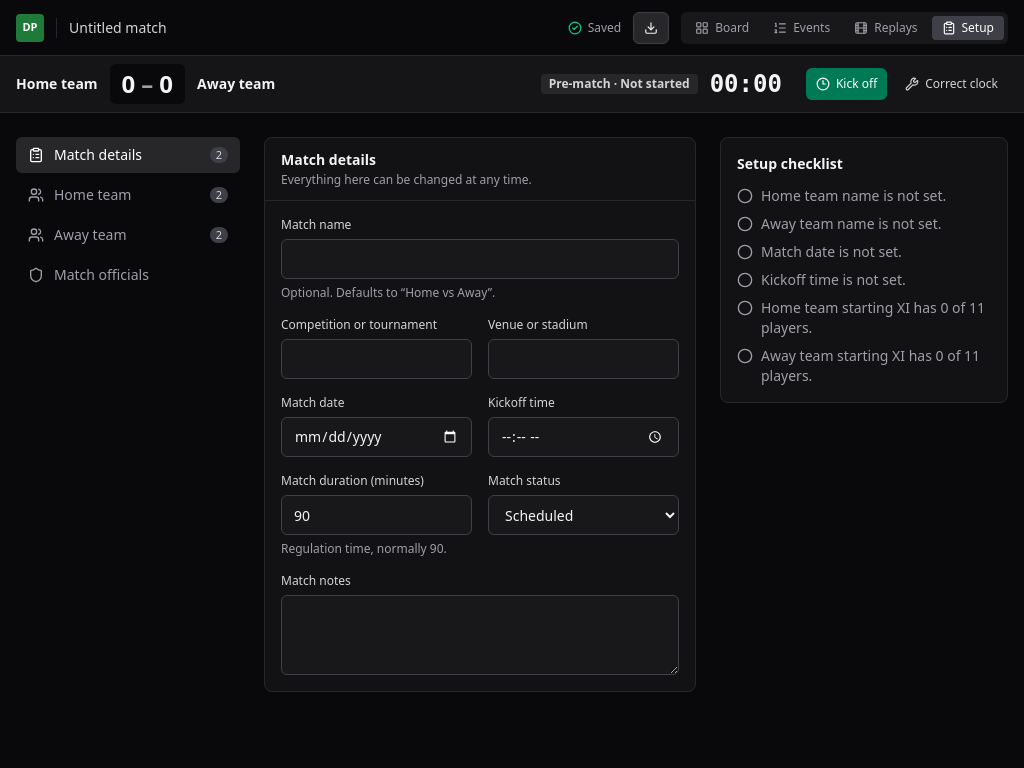
MatchWorkspace › blocks a duplicate shirt number within a team with a clear message
Click the button "Home team 2": (128, 195) [16,177,240,213]
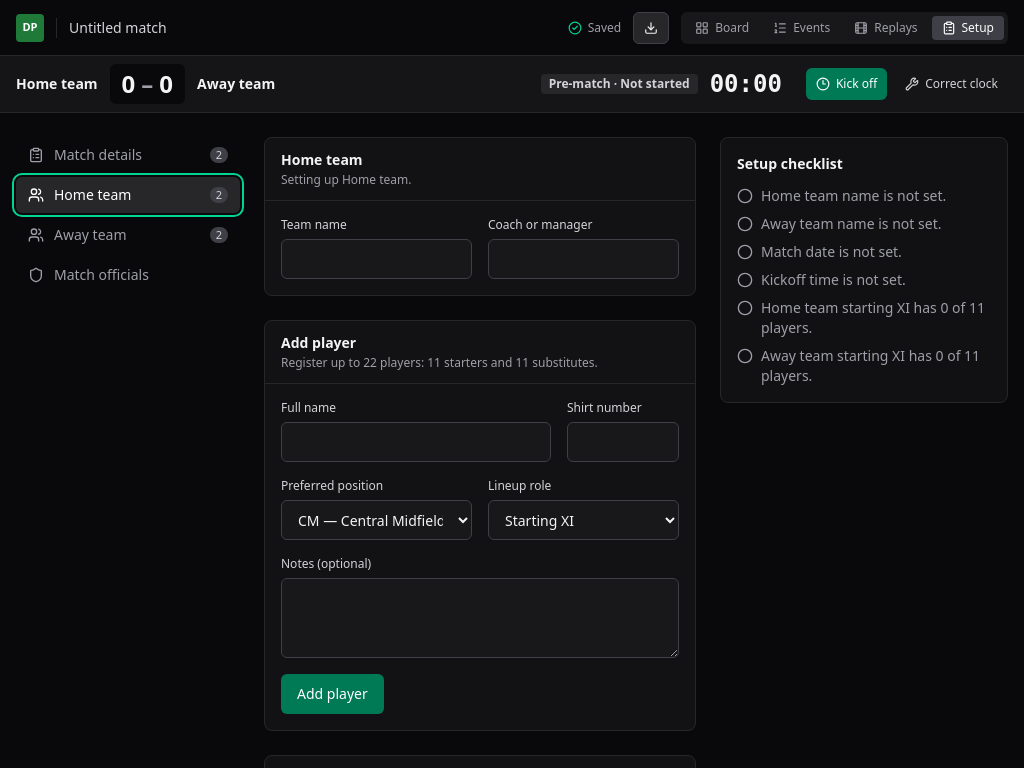
In the field labelled "Full name": (416, 442) [281,422,551,462], type "First"
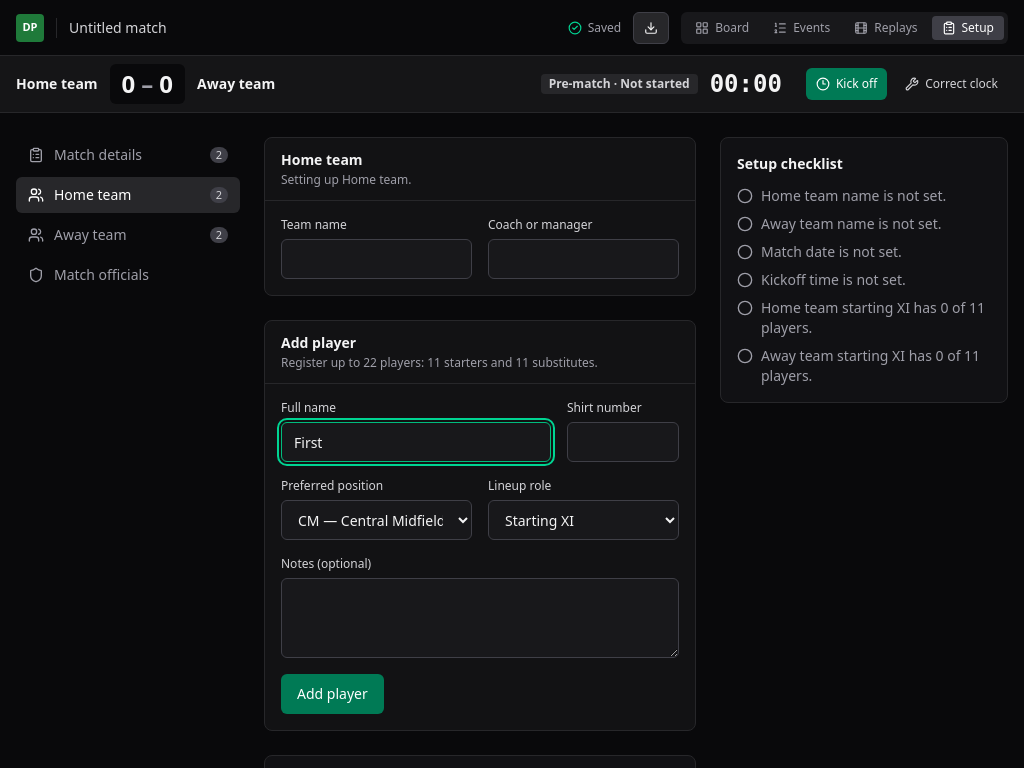
In the number field labelled "Shirt number": (623, 442) [567,422,679,462], type "9"
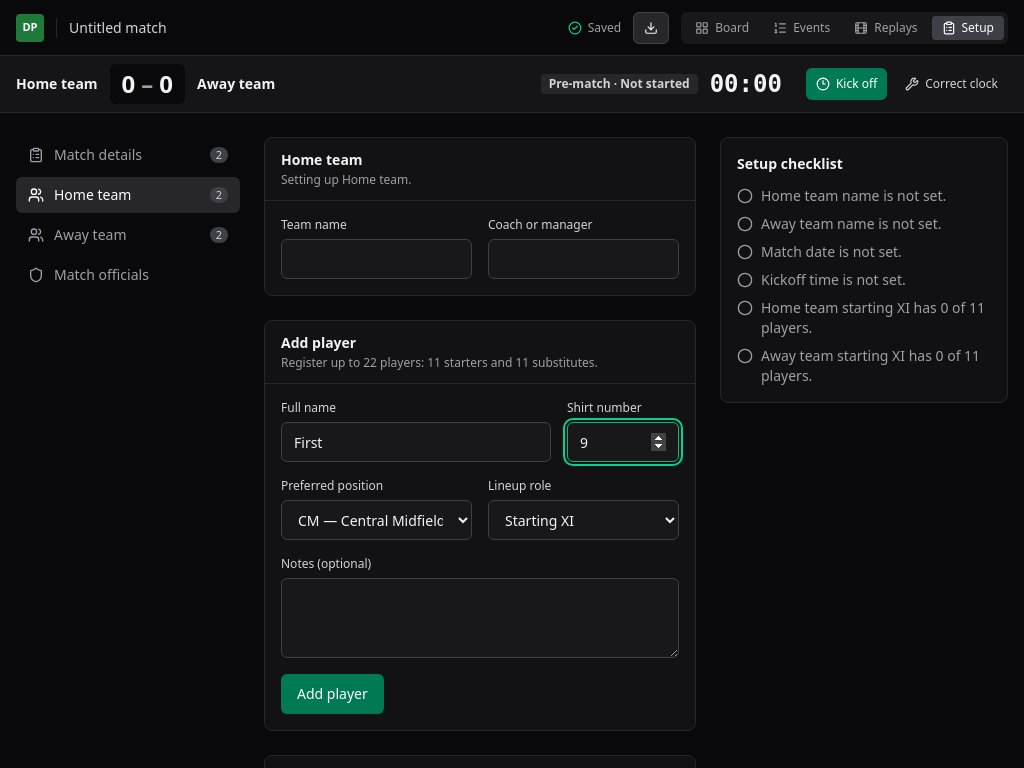
Click the button "Add player": (332, 694) [281,674,384,714]
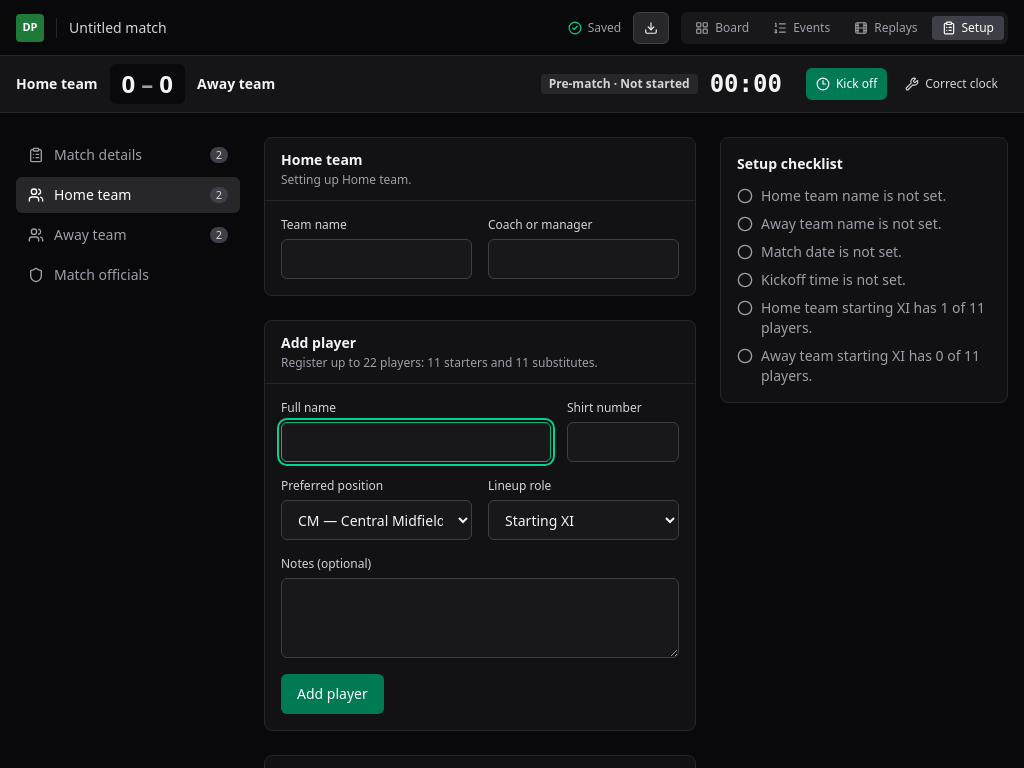
In the field labelled "Full name": (416, 442) [281,422,551,462], type "Second"
In the number field labelled "Shirt number": (623, 442) [567,422,679,462], type "9"
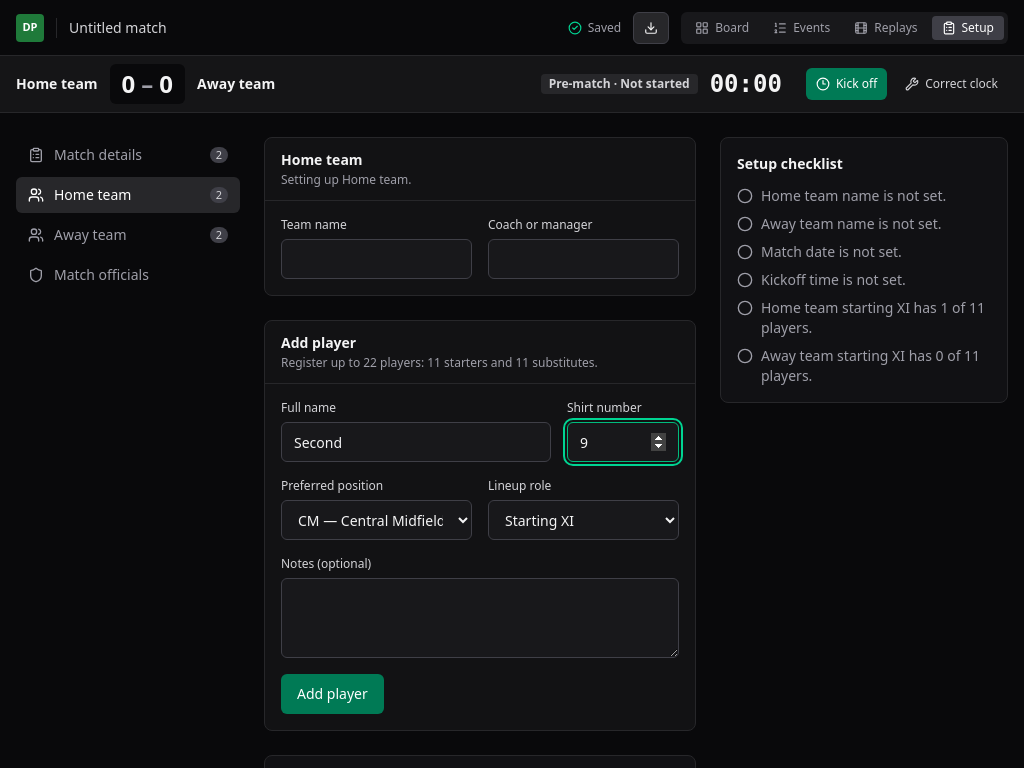
Click the button "Add player": (332, 694) [281,674,384,714]
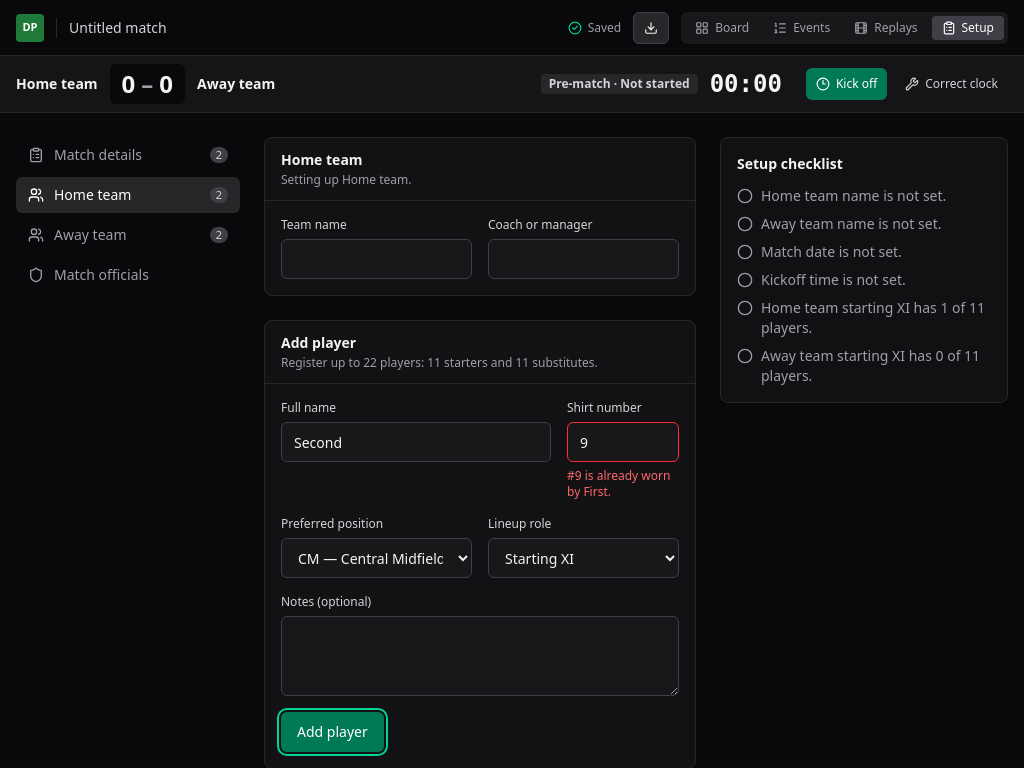
Expected: the text "#9 is already worn by First." is shown, [567,468,679,500]
